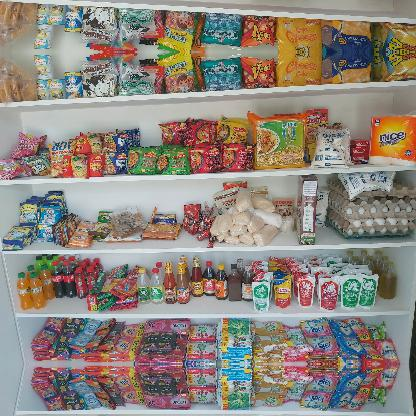Koko-Krunch: (295, 172, 319, 245)
